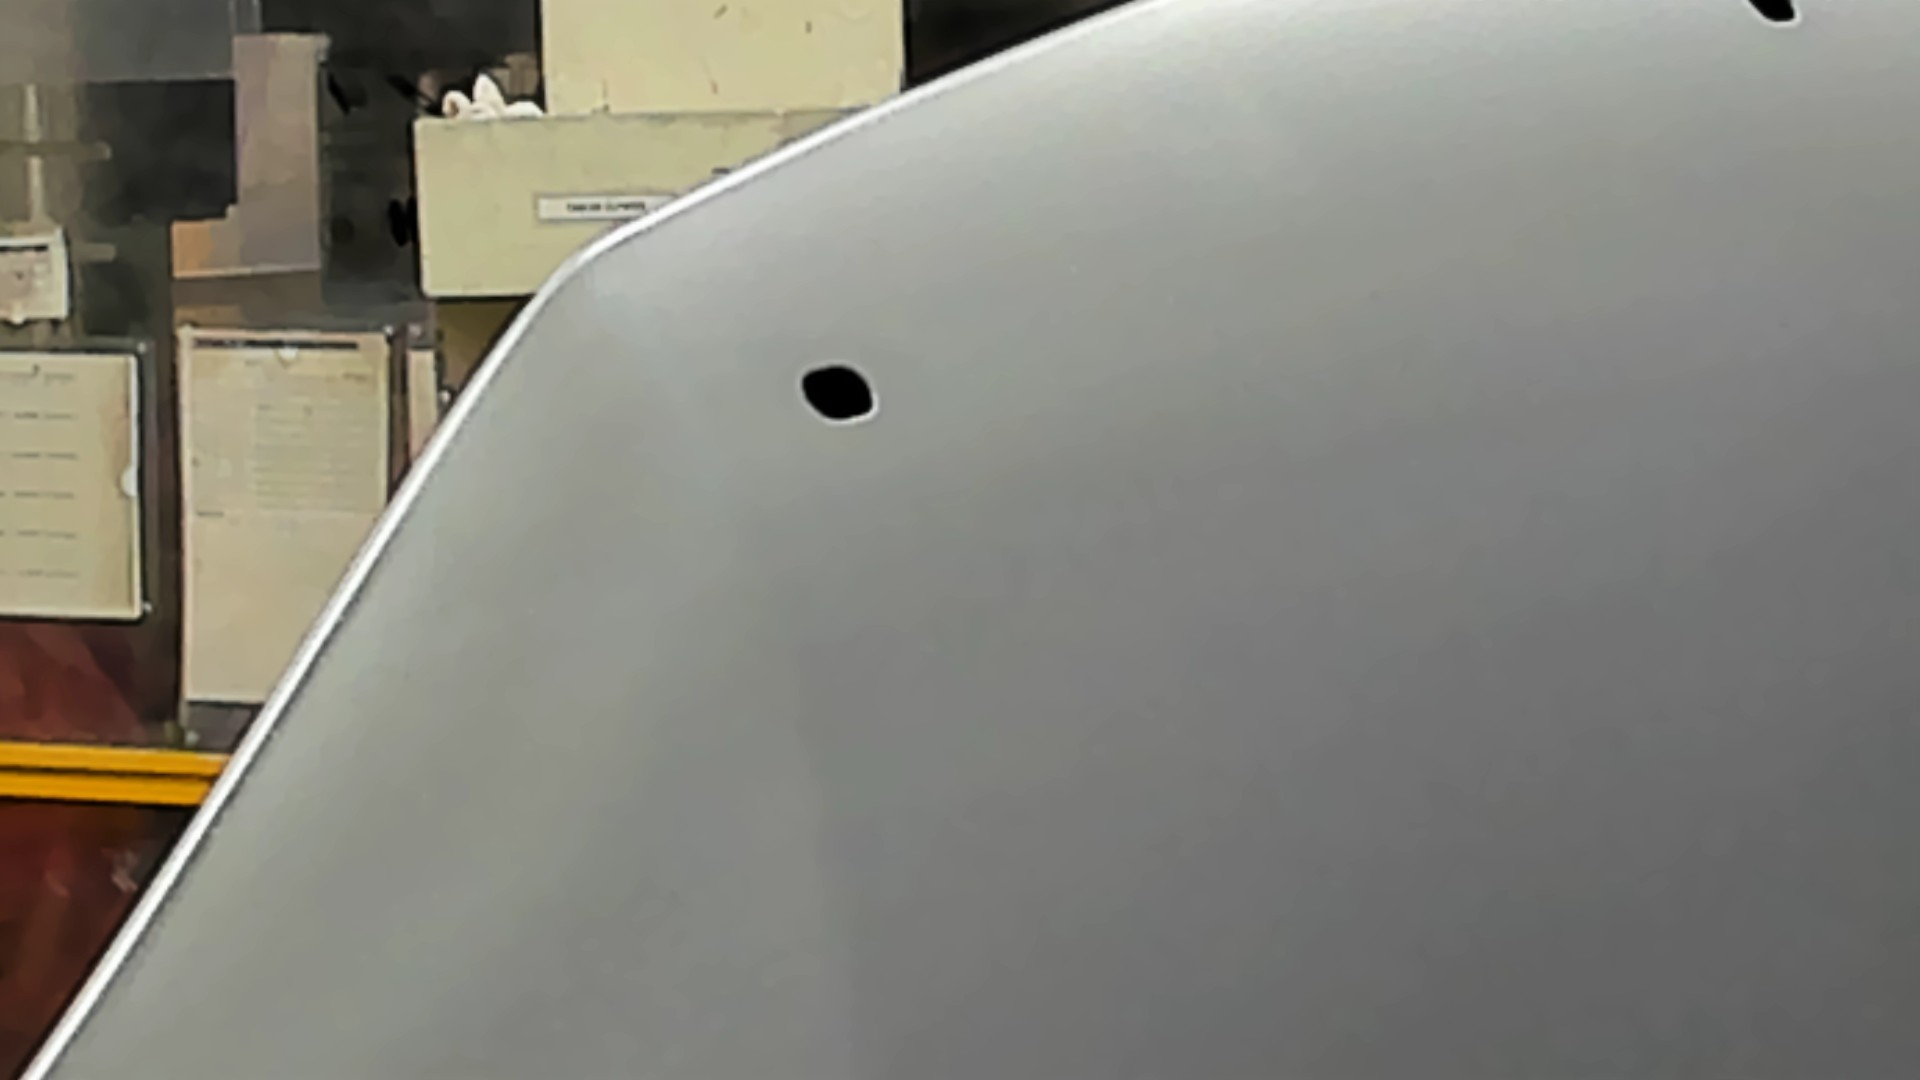amorfo: (793, 365, 887, 431), (1742, 1, 1811, 36)
capo: (980, 102, 1920, 1080)
